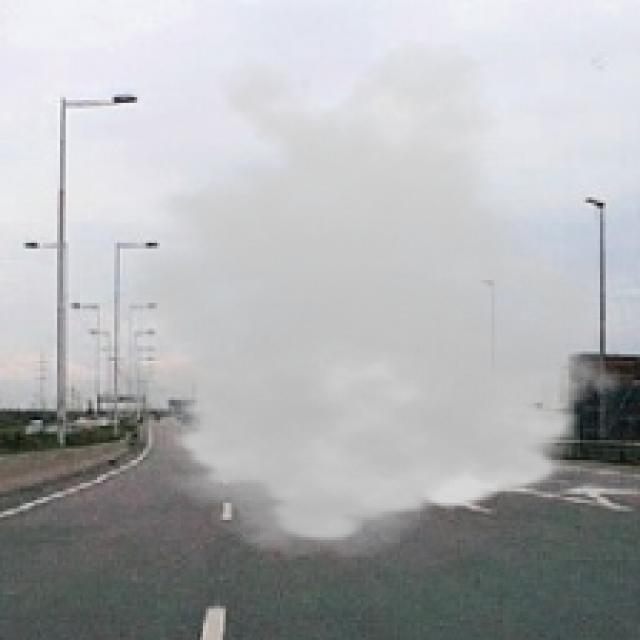Smoke: (69, 37, 632, 560)
